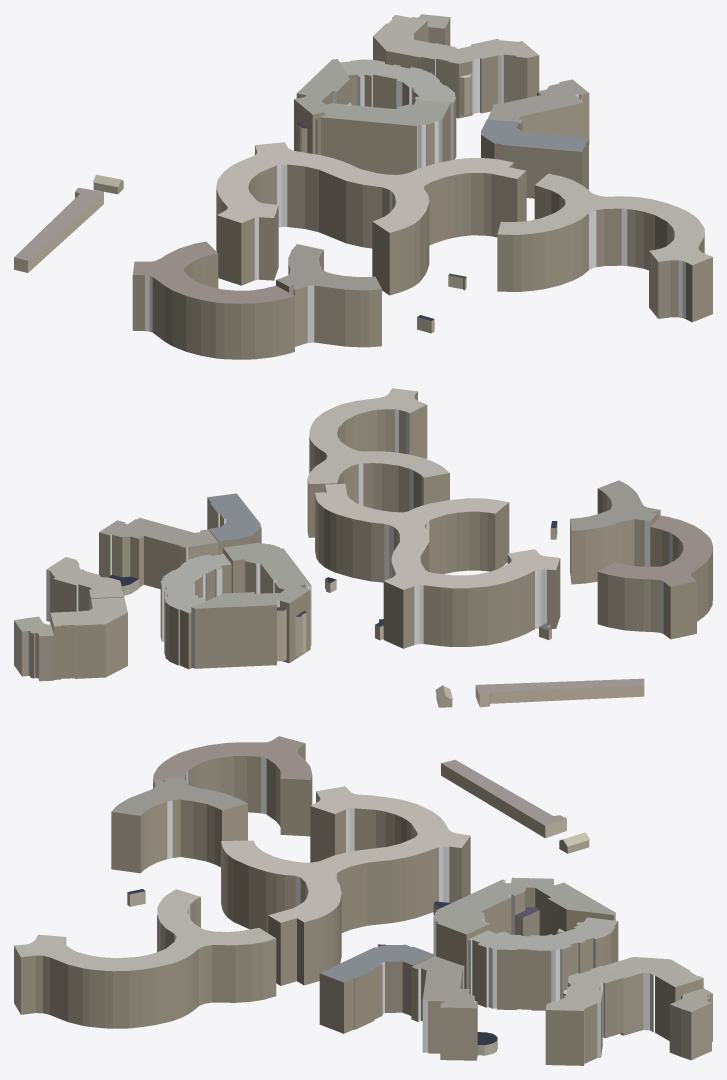
The picture shows the model from 3 angles, top to bottom: view 1: azimuth 30°, elevation 25°; view 2: azimuth 150°, elevation 25°; view 3: azimuth 270°, elevation 25°; orthographic projection. The views are drawn at different scales.
Parts seen in each view (by area): view 1: tuile; view 2: tuile; view 3: tuile.
Boxes of the visible parts, x1,y1,x2,y2 form: tuile: (14, 14, 712, 359); tuile: (14, 388, 712, 707); tuile: (14, 736, 712, 1065).
Size of the model in its own units: 282 by 34.97 by 296.
